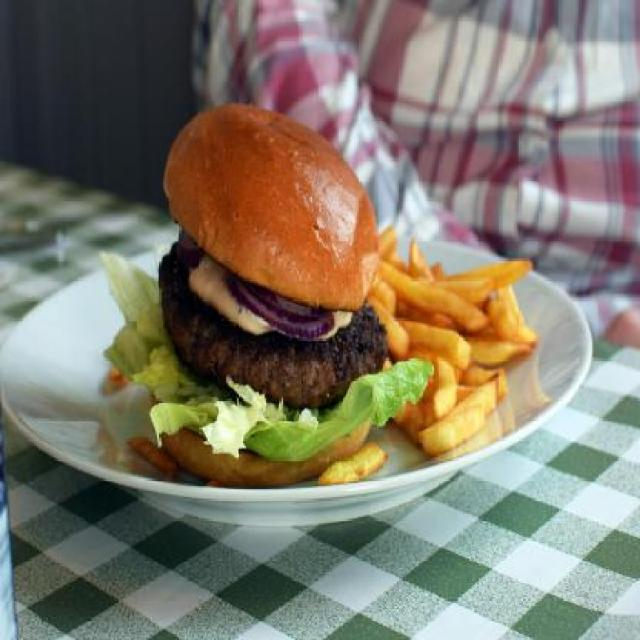french fries: (371, 211, 531, 474)
hamburger: (138, 87, 377, 475)
